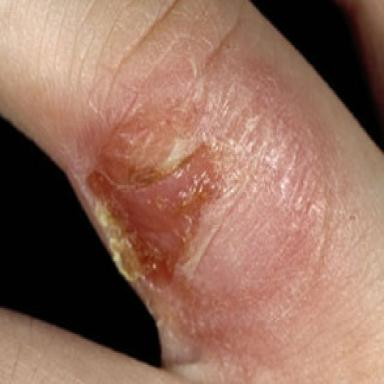Impetigo: (67, 51, 338, 379)
